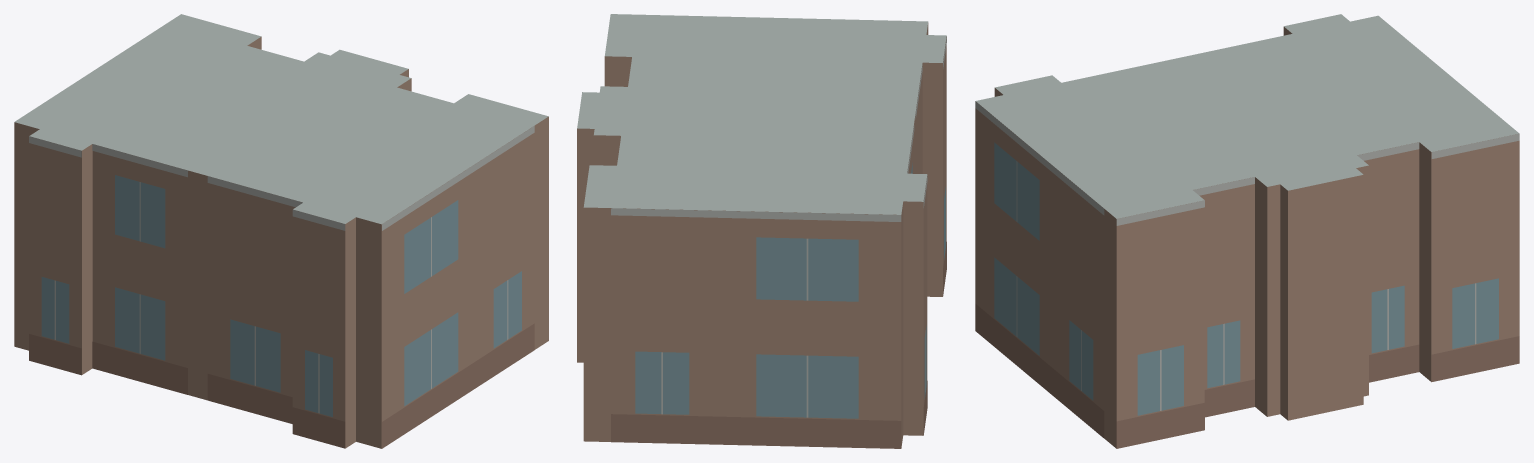
File: survey-upis-32741608.glb
3 views of the same model, side by side, from view 1: azimuth 30°, elevation 25°; view 2: azimuth 150°, elevation 25°; view 3: azimuth 270°, elevation 25° (orthographic). The views are drawn at different scales.
Visible parts, largest first — view 1: survey-upis-32741608.tmp; view 2: survey-upis-32741608.tmp; view 3: survey-upis-32741608.tmp.
Part boxes in pixels (bbox=[...]): survey-upis-32741608.tmp: bbox=[14, 14, 548, 448]; survey-upis-32741608.tmp: bbox=[577, 14, 946, 448]; survey-upis-32741608.tmp: bbox=[975, 14, 1519, 448].
Size of the model in its own units: 15.1 by 7.9 by 16.95.
